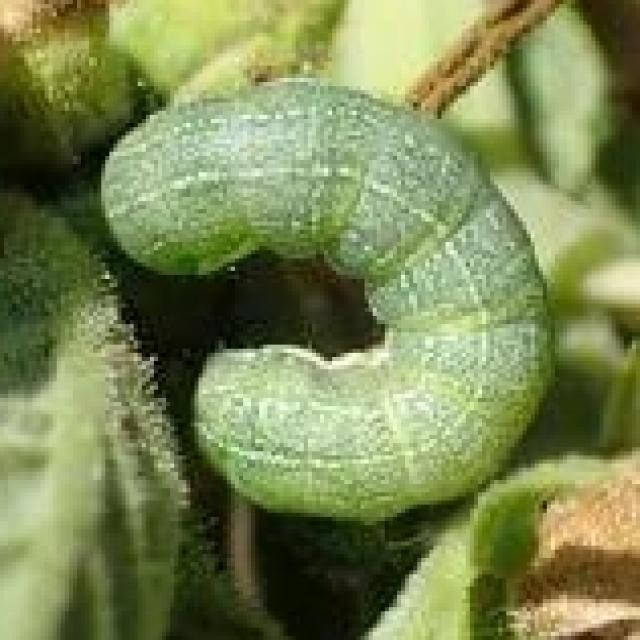BeetArmyWorm-Larva-: (77, 69, 570, 537)
